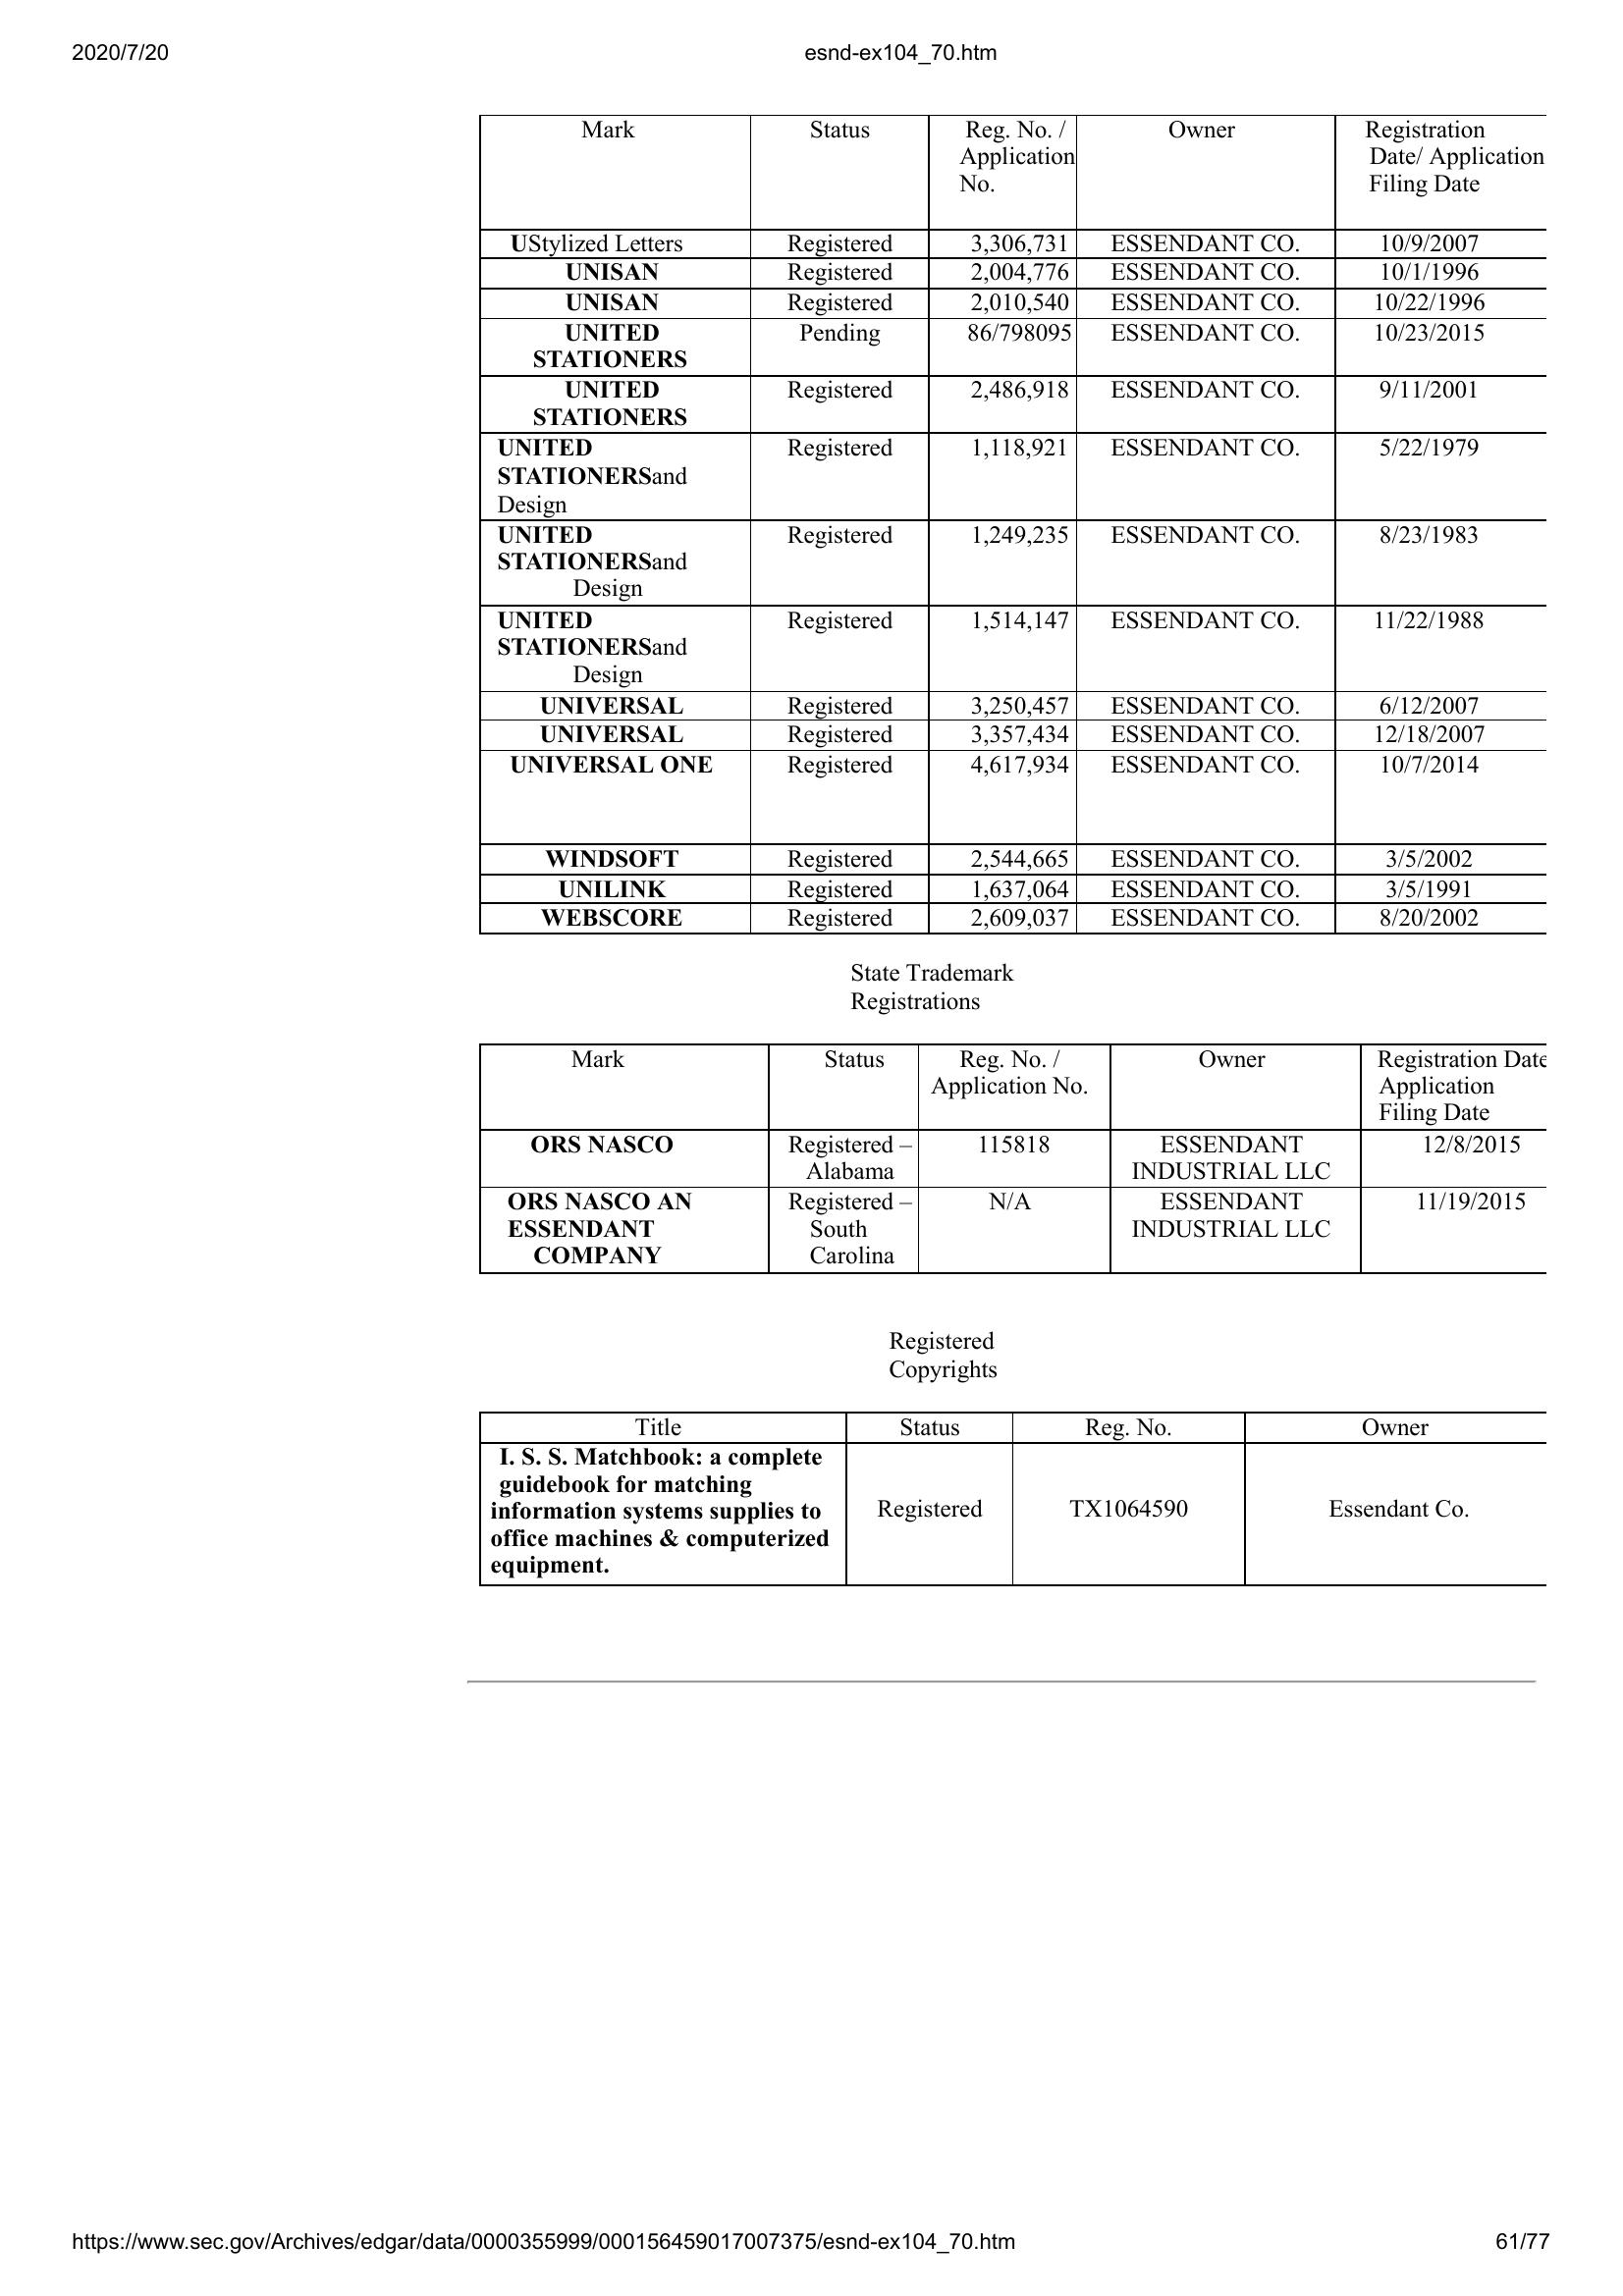table: (476, 105, 1563, 941), (480, 1041, 1554, 1281), (469, 1403, 1562, 1597)
